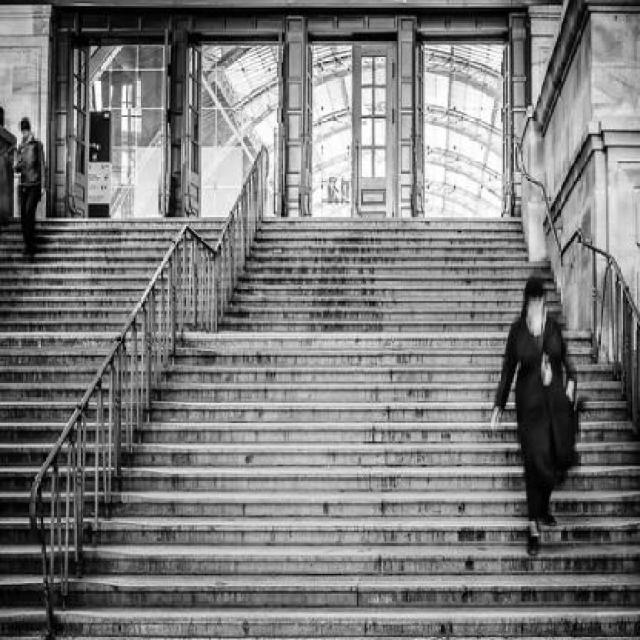stair: (240, 115, 580, 634), (19, 111, 186, 412)
